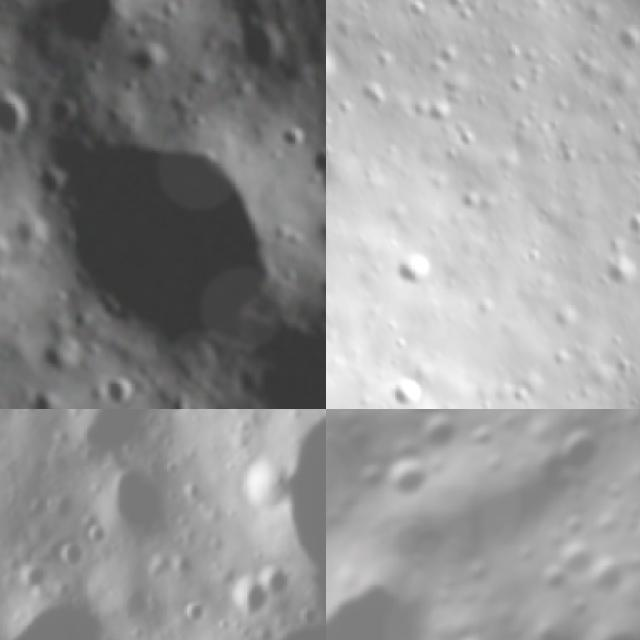crater: (41, 139, 281, 346), (326, 534, 465, 640), (272, 409, 326, 615), (89, 463, 169, 542), (537, 409, 617, 488), (27, 0, 131, 49), (376, 442, 443, 510), (404, 409, 466, 466), (392, 245, 448, 301), (552, 533, 602, 584), (530, 555, 578, 604), (597, 249, 640, 296), (350, 452, 392, 497), (552, 505, 594, 547), (390, 409, 461, 433), (228, 575, 261, 622), (386, 372, 427, 409), (563, 588, 600, 626), (0, 95, 25, 149), (98, 375, 135, 409), (619, 498, 640, 557), (326, 409, 391, 428), (51, 538, 86, 572), (174, 594, 208, 629), (262, 559, 288, 603), (326, 43, 345, 94), (623, 129, 640, 182), (312, 148, 326, 212), (280, 127, 311, 155), (27, 392, 62, 409), (150, 409, 199, 421), (628, 409, 640, 455)
